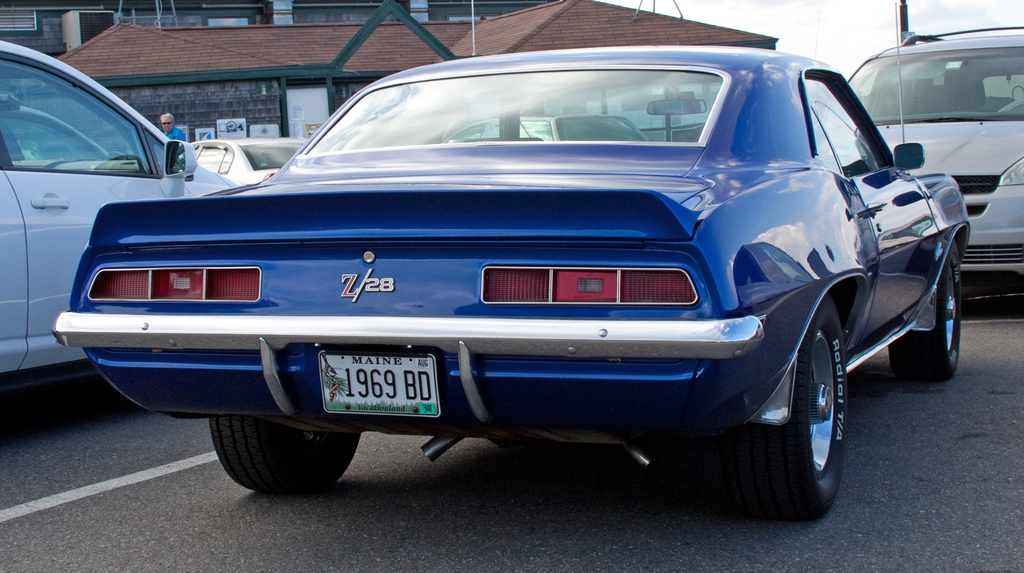cars: (49, 39, 977, 524), (0, 38, 249, 394), (837, 24, 1023, 306), (190, 132, 331, 194)
